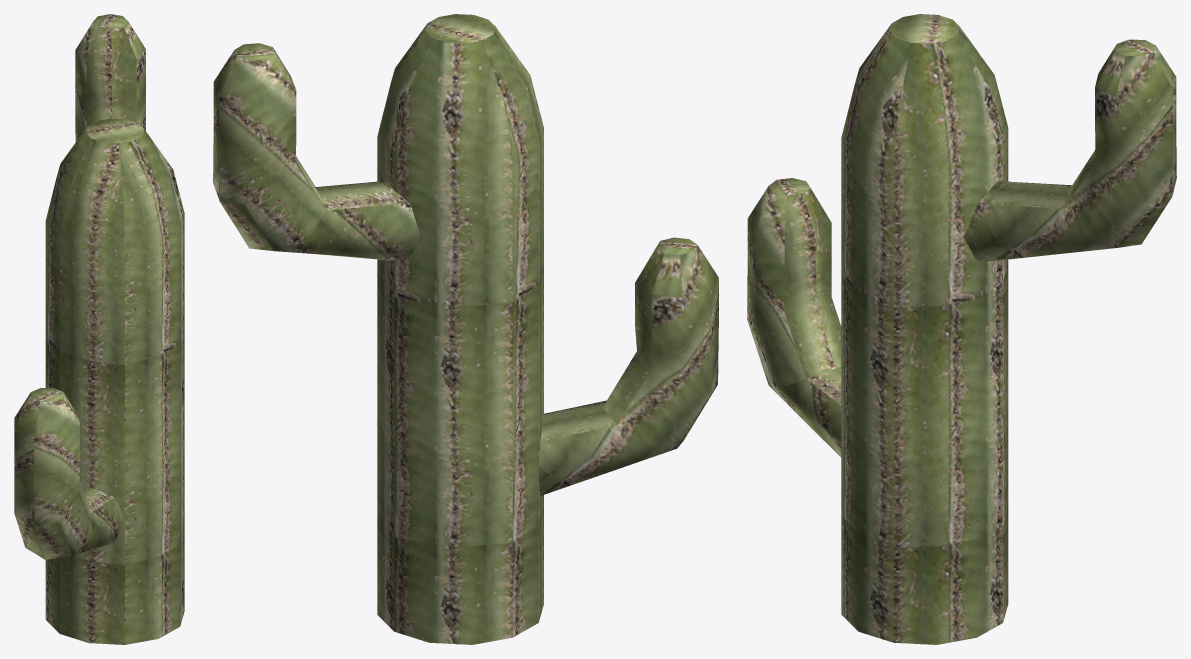
Rendered from cactus_1.obj.
The picture shows the model from 3 angles, left to right: view 1: azimuth 30°, elevation 25°; view 2: azimuth 150°, elevation 25°; view 3: azimuth 270°, elevation 25°; orthographic projection. The views are drawn at different scales.
Visible parts, largest first — view 1: cactus8; view 2: cactus8; view 3: cactus8.
Boxes of the visible parts, x1,y1,x2,y2 form: cactus8: (14,14,184,644); cactus8: (213,14,718,644); cactus8: (747,14,1176,644).
Size of the model in its own units: 2.64 by 4.8 by 3.06.
Materials: 1 (1 with a texture image).
